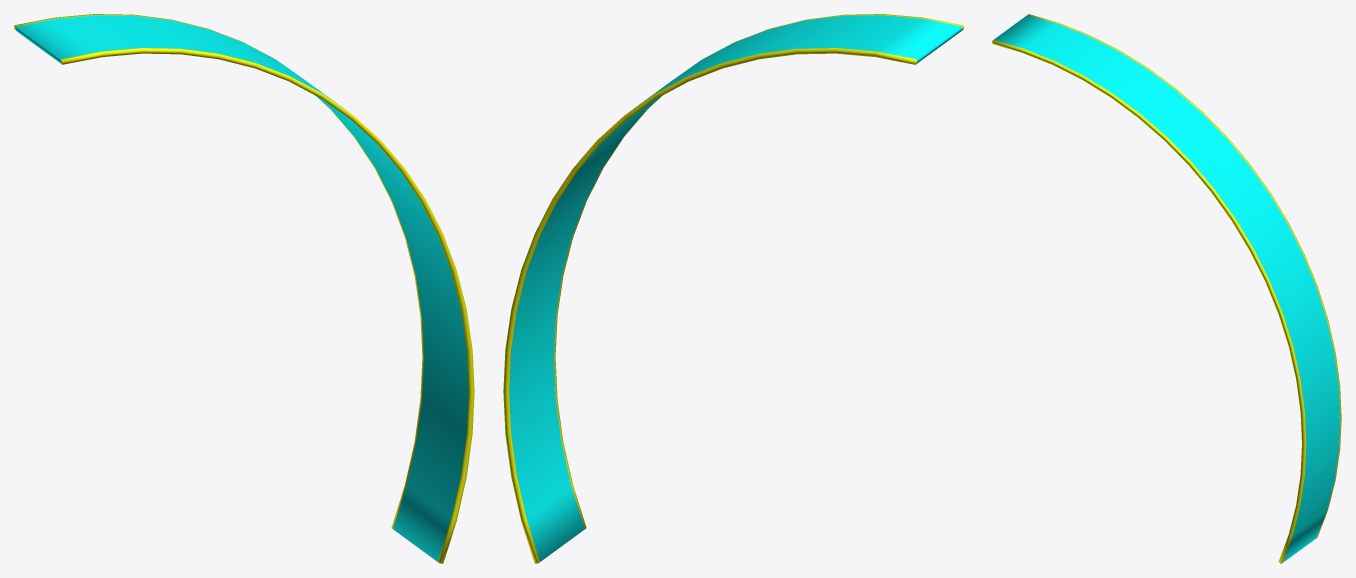
File: TouchNote04.fbx
3 views of the same model, side by side, from view 1: azimuth 30°, elevation 25°; view 2: azimuth 150°, elevation 25°; view 3: azimuth 330°, elevation 25° (orthographic). The views are drawn at different scales.
Parts seen in each view (by area): view 1: TouchNote04; view 2: TouchNote04; view 3: TouchNote04.
Part boxes in pixels (x1,y1,x2,y2): TouchNote04: (14, 14, 474, 563); TouchNote04: (503, 14, 963, 563); TouchNote04: (992, 14, 1341, 563).
Size of the model in its own units: 99 by 20 by 137.
